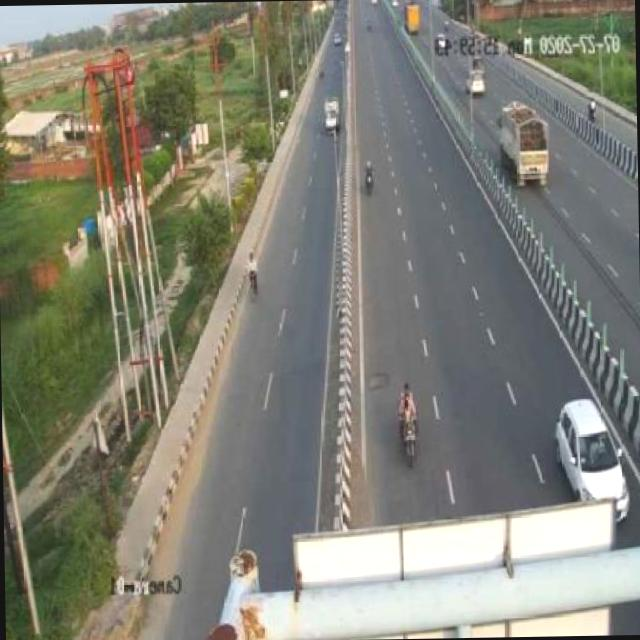car: (549, 390, 634, 520), (321, 91, 342, 137)
